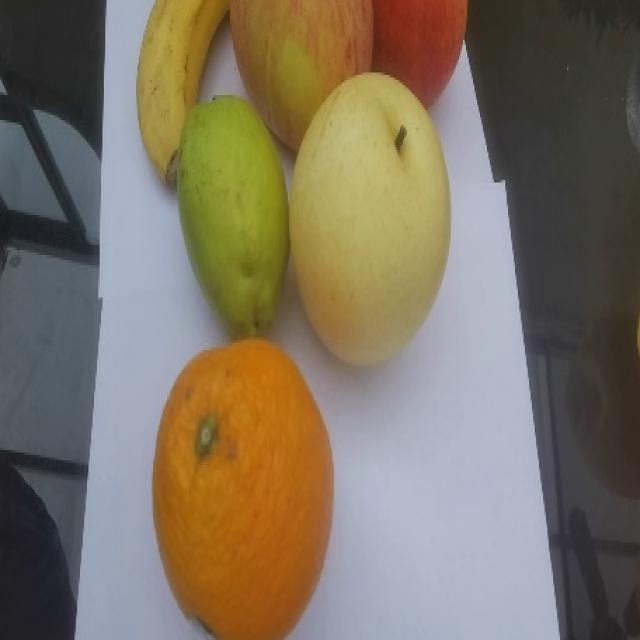Apple: (228, 0, 374, 153), (371, 0, 468, 109)
Orange: (151, 336, 334, 639)
